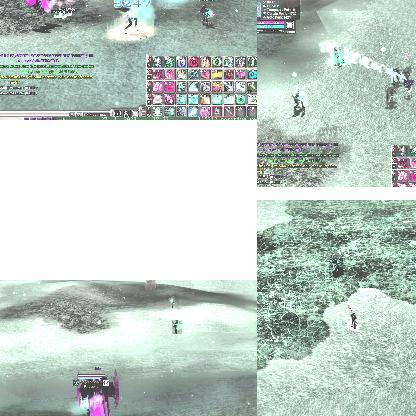caliana: (121, 2, 141, 34), (290, 91, 304, 111), (329, 258, 343, 278), (384, 86, 396, 104), (402, 64, 414, 80), (334, 47, 344, 63), (172, 320, 182, 334), (168, 296, 178, 308)
